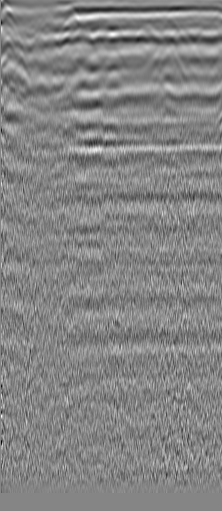오수: (26, 32, 46, 52)
우수: (159, 17, 181, 49)
